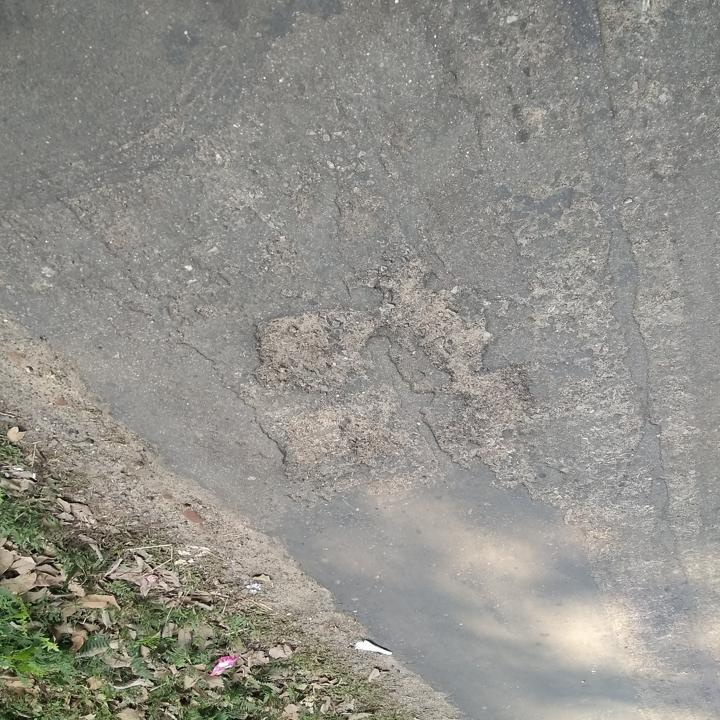pothole: (230, 253, 545, 496)
